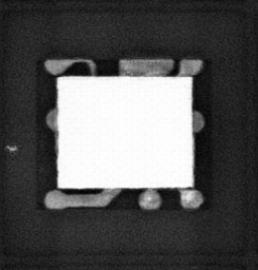DIE_INK: (5, 144, 19, 154)
